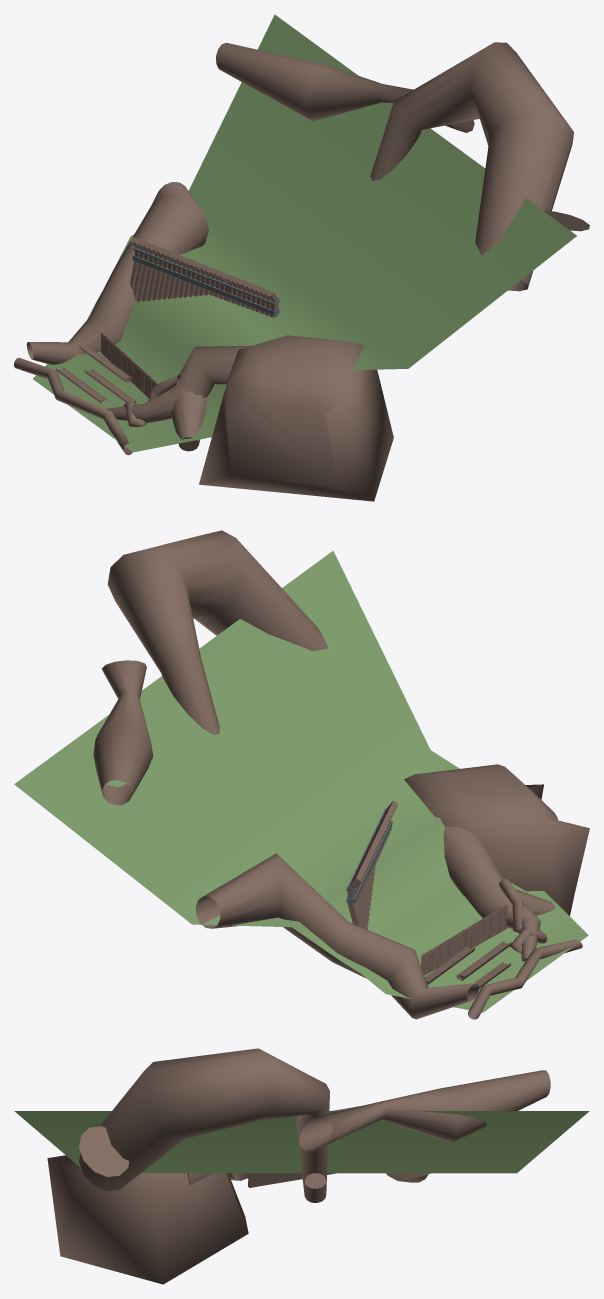
File: MSH_Stands_05.fbx
3 renders of one model, top to bottom at view 1: azimuth 30°, elevation 25°; view 2: azimuth 150°, elevation 25°; view 3: azimuth 270°, elevation 25°, orthographic. The views are drawn at different scales.
Parts seen in each view (by area): view 1: MSH_Stands_05; view 2: MSH_Stands_05; view 3: MSH_Stands_05.
Boxes of the visible parts, <box> form: MSH_Stands_05: <box>14,14,589,501</box>; MSH_Stands_05: <box>14,530,589,1019</box>; MSH_Stands_05: <box>14,1048,589,1284</box>.
Size of the model in its own units: 3956 by 2859 by 4825.
